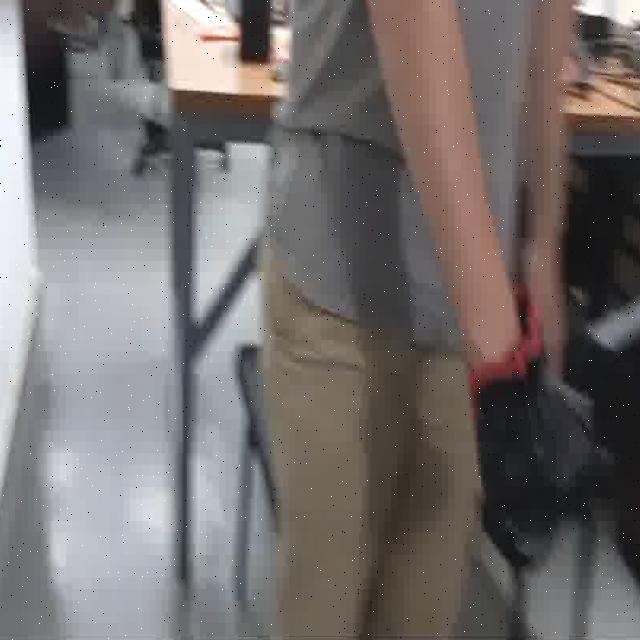Gloves: (463, 358, 618, 553)
